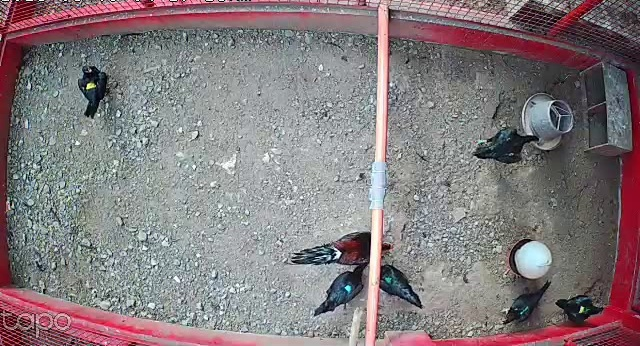Chicken: (468, 122, 542, 167), (313, 261, 370, 316), (499, 276, 552, 326), (369, 263, 423, 307), (77, 64, 115, 125), (556, 286, 606, 326)
Rooster: (286, 229, 398, 267)
Saddle_Color_Blue: (345, 286, 353, 293)
Saddle_Color_Yellow: (85, 77, 101, 91), (382, 278, 393, 284)
Saddle_Color_YellowGreen: (580, 304, 589, 315)
